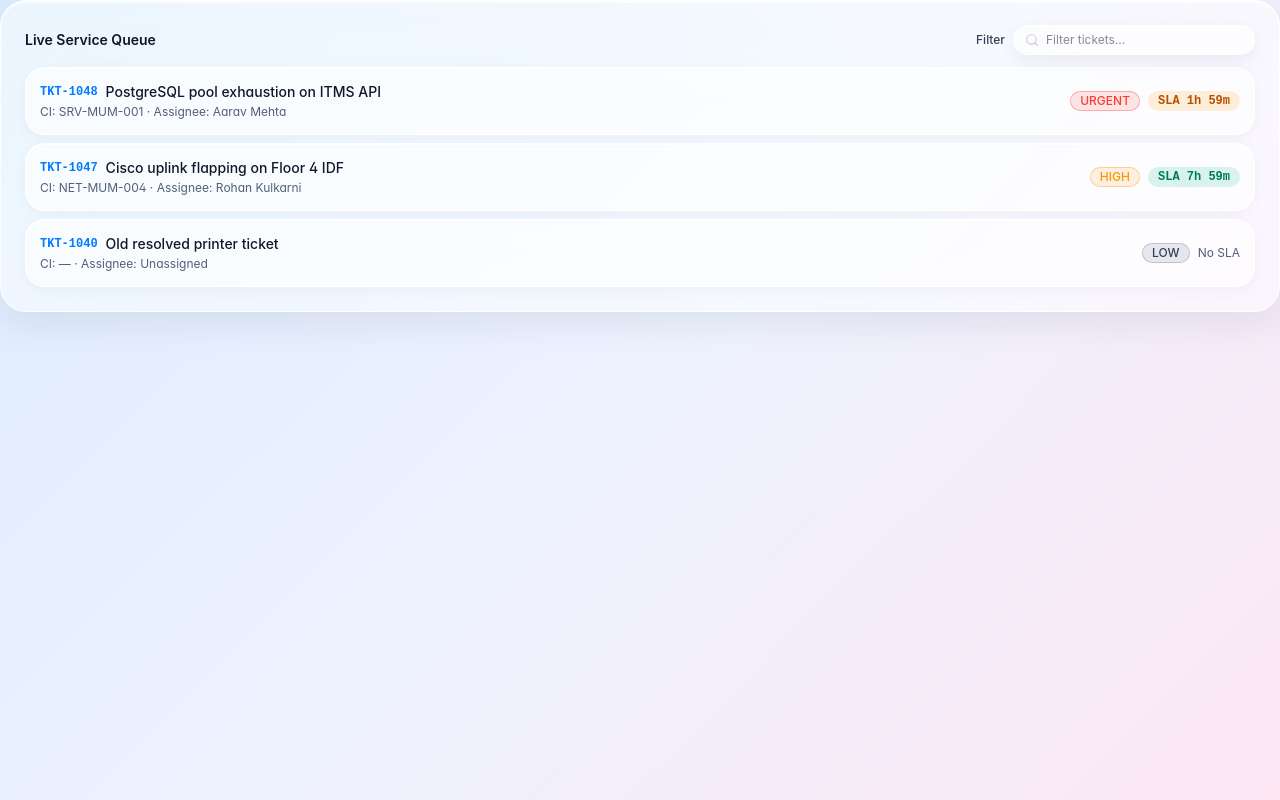
ServiceQueue CT-01 staff-only status mutation (#155) › EMPLOYEE sees a read-only status badge, no status mutation
Click the text "TKT-1048".
click(69, 92)  # box [40,84,98,100]
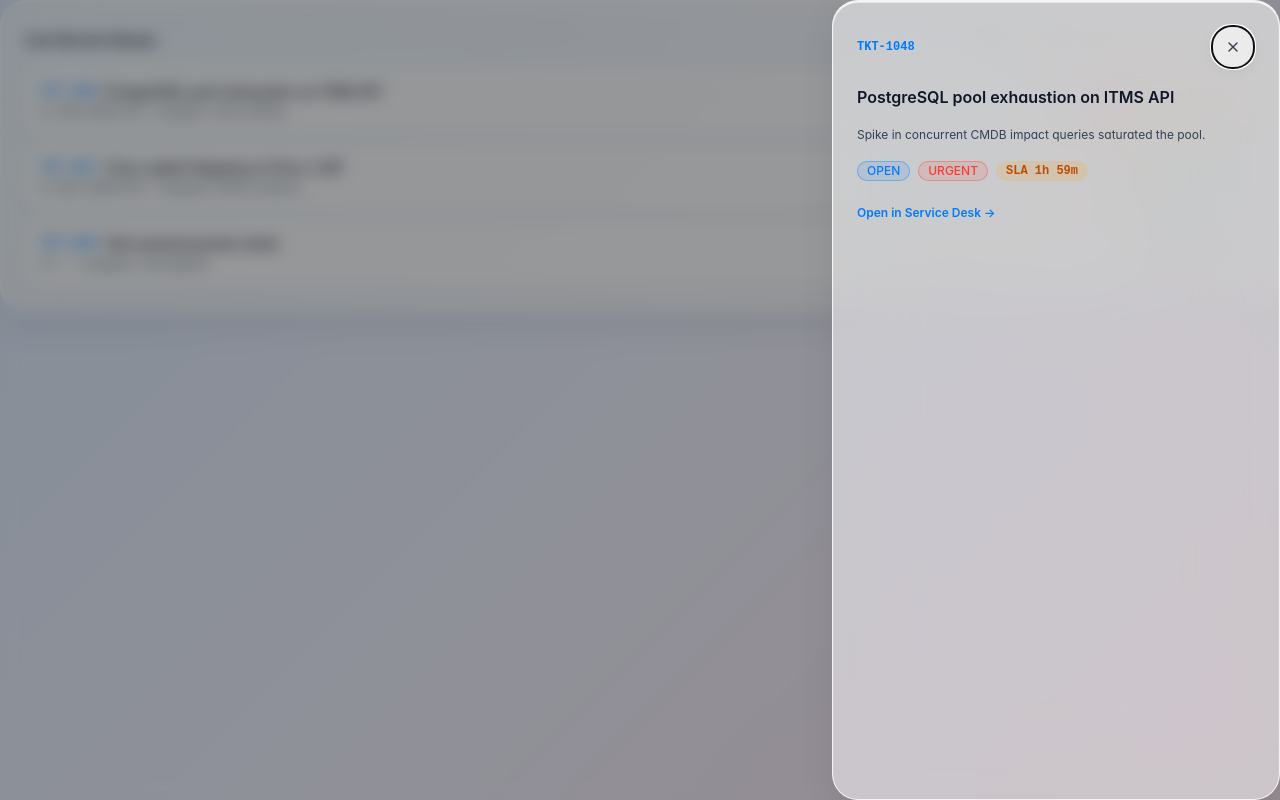
Expected: the text "OPEN" is shown, [857,160,910,180]
